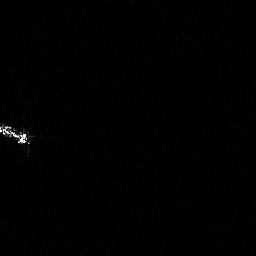ship: (1, 120, 32, 145)
